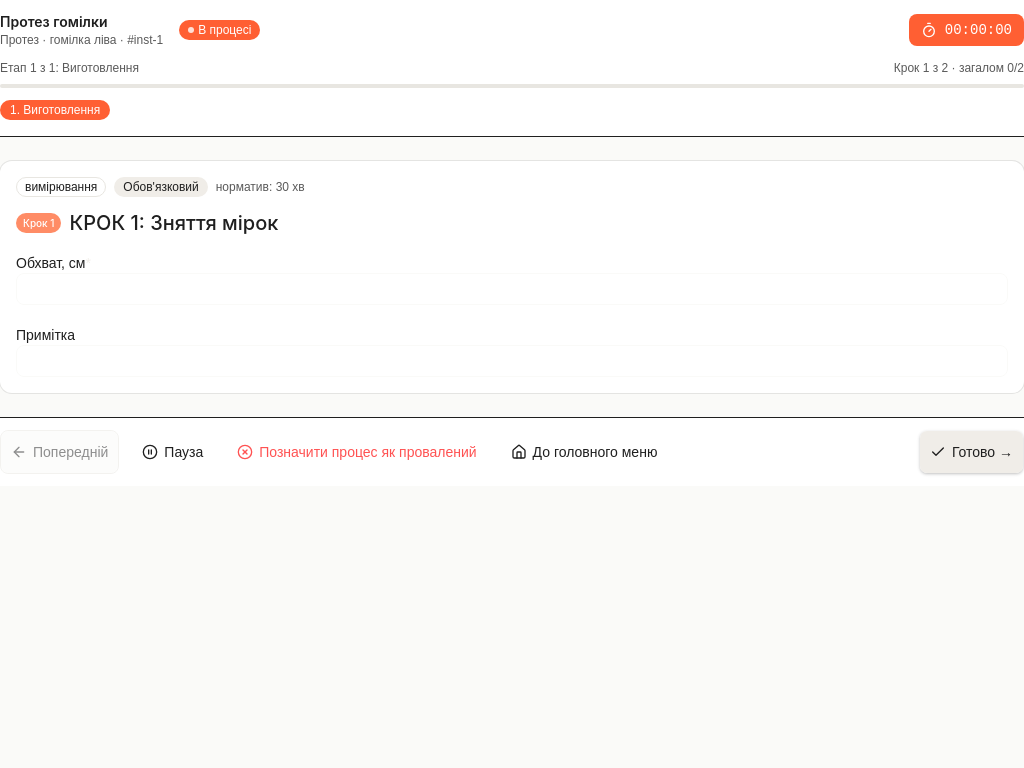
Test: WizardScreen › shows fail button on every step and opens the fail dialog
This screenshot has width=1024, height=768.
Expected: the text "КРОК 1: Зняття мірок" is shown, [70,209,278,237]
Click the button "Позначити процес як провалений": [357, 452] box [226,430,488,474]
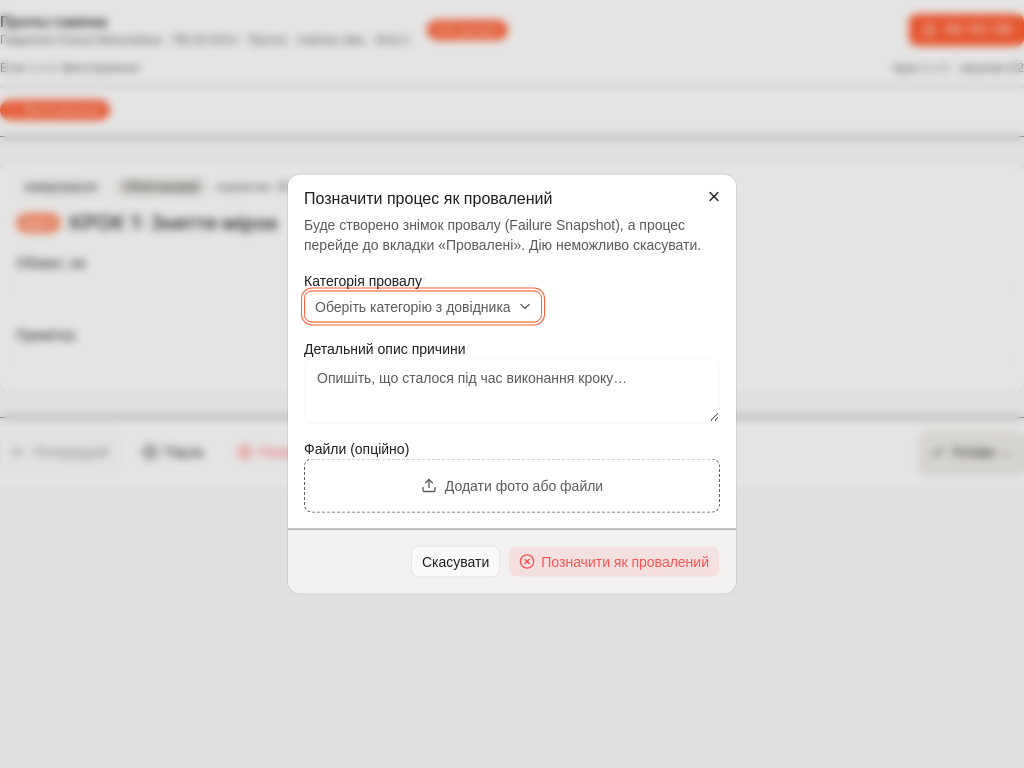
Now the text "Категорія провалу" is shown, box [304,272,422,288]
Now the text "Детальний опис причини" is shown, box [304,340,466,356]
Now the text "Файли (опційно)" is shown, box [304,440,409,456]
